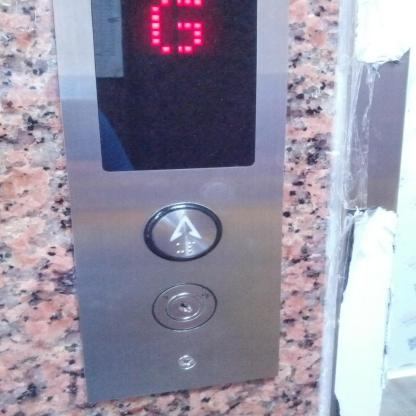keyhole: (151, 282, 217, 331)
led: (90, 0, 258, 171)
up: (142, 202, 223, 262)
